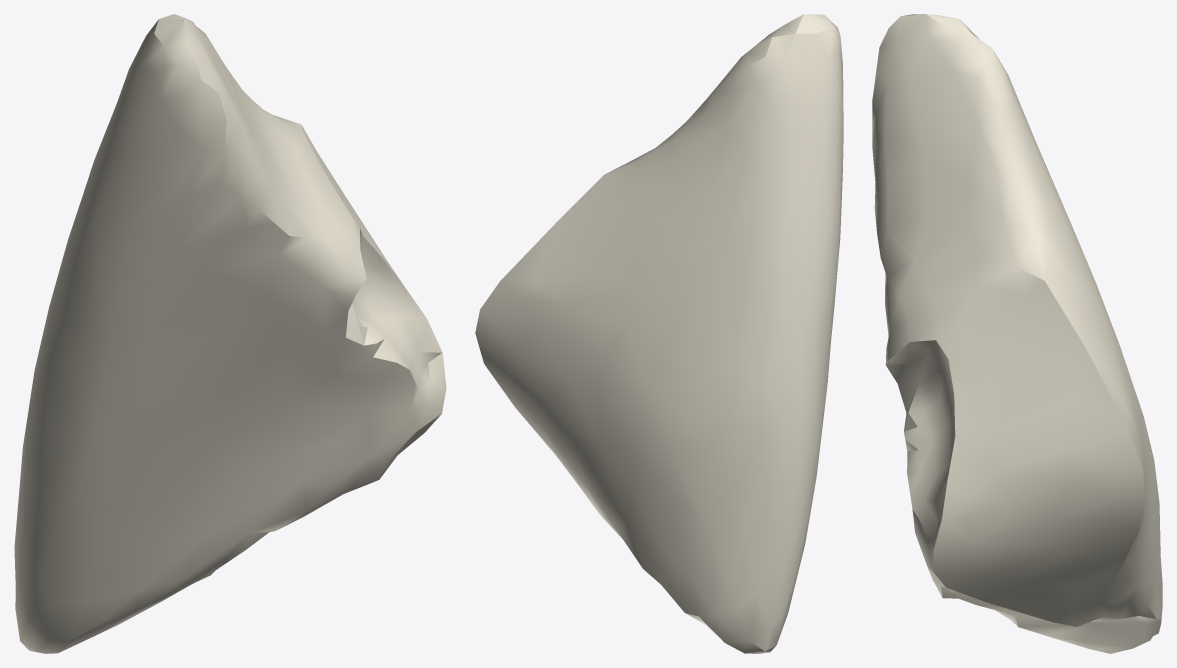
File: fma23807_mm1525.glb
The picture shows the model from 3 angles, left to right: view 1: azimuth 30°, elevation 25°; view 2: azimuth 150°, elevation 25°; view 3: azimuth 270°, elevation 25°; orthographic projection. The views are drawn at different scales.
Parts seen in each view (by area): view 1: FMA23807_MM1525; view 2: FMA23807_MM1525; view 3: FMA23807_MM1525.
Boxes of the visible parts, left/top/right/bottom form: FMA23807_MM1525: left=14, top=14, right=446, bottom=653; FMA23807_MM1525: left=475, top=14, right=843, bottom=653; FMA23807_MM1525: left=872, top=14, right=1162, bottom=653.
Bounding box in the file's own units: 0.0111 × 0.0201 × 0.00802.
